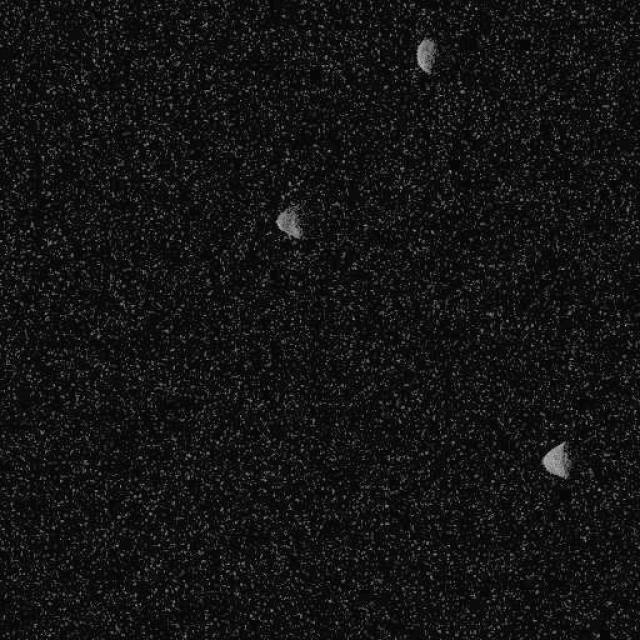D2: (540, 440, 571, 479), (274, 202, 304, 240), (415, 36, 436, 74)
